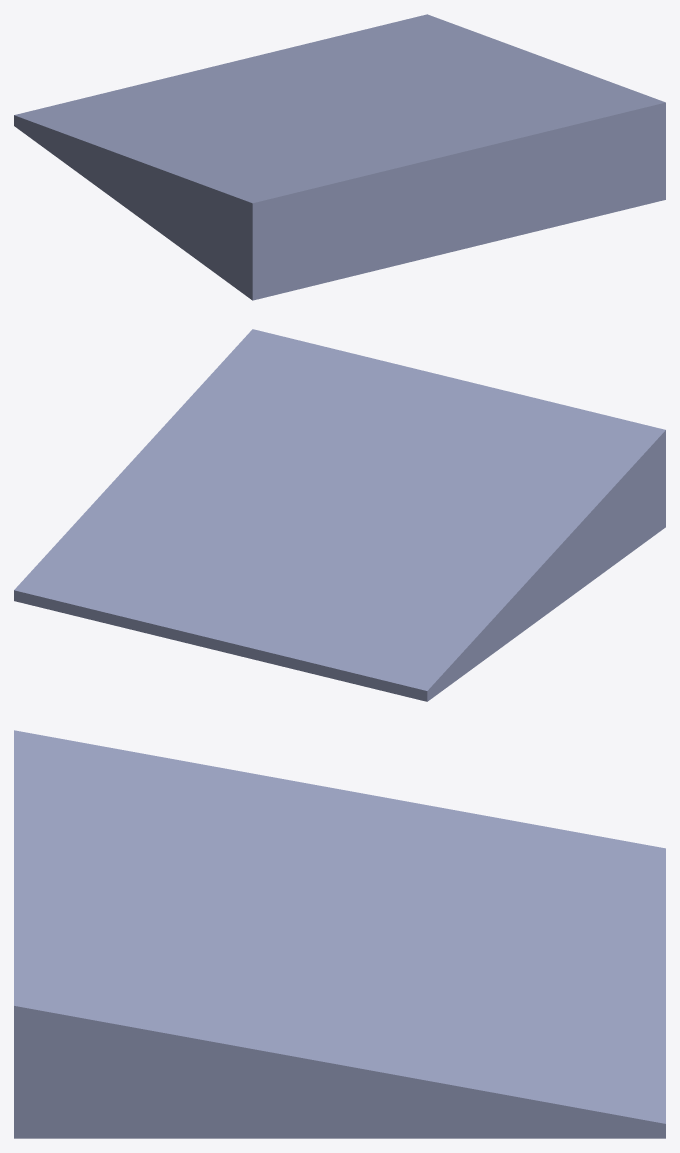
Rendered from road-slope.glb.
The picture shows the model from 3 angles, top to bottom: view 1: azimuth 30°, elevation 25°; view 2: azimuth 150°, elevation 25°; view 3: azimuth 270°, elevation 25°; orthographic projection. The views are drawn at different scales.
Parts seen in each view (by area): view 1: road-slope; view 2: road-slope; view 3: road-slope.
Boxes of the visible parts, x1,y1,x2,y2 form: road-slope: (14, 14, 665, 300); road-slope: (14, 329, 665, 701); road-slope: (14, 730, 665, 1138).
Bounding box in the file's own units: 1 × 0.225 × 1.
1 material, 1 textured.
